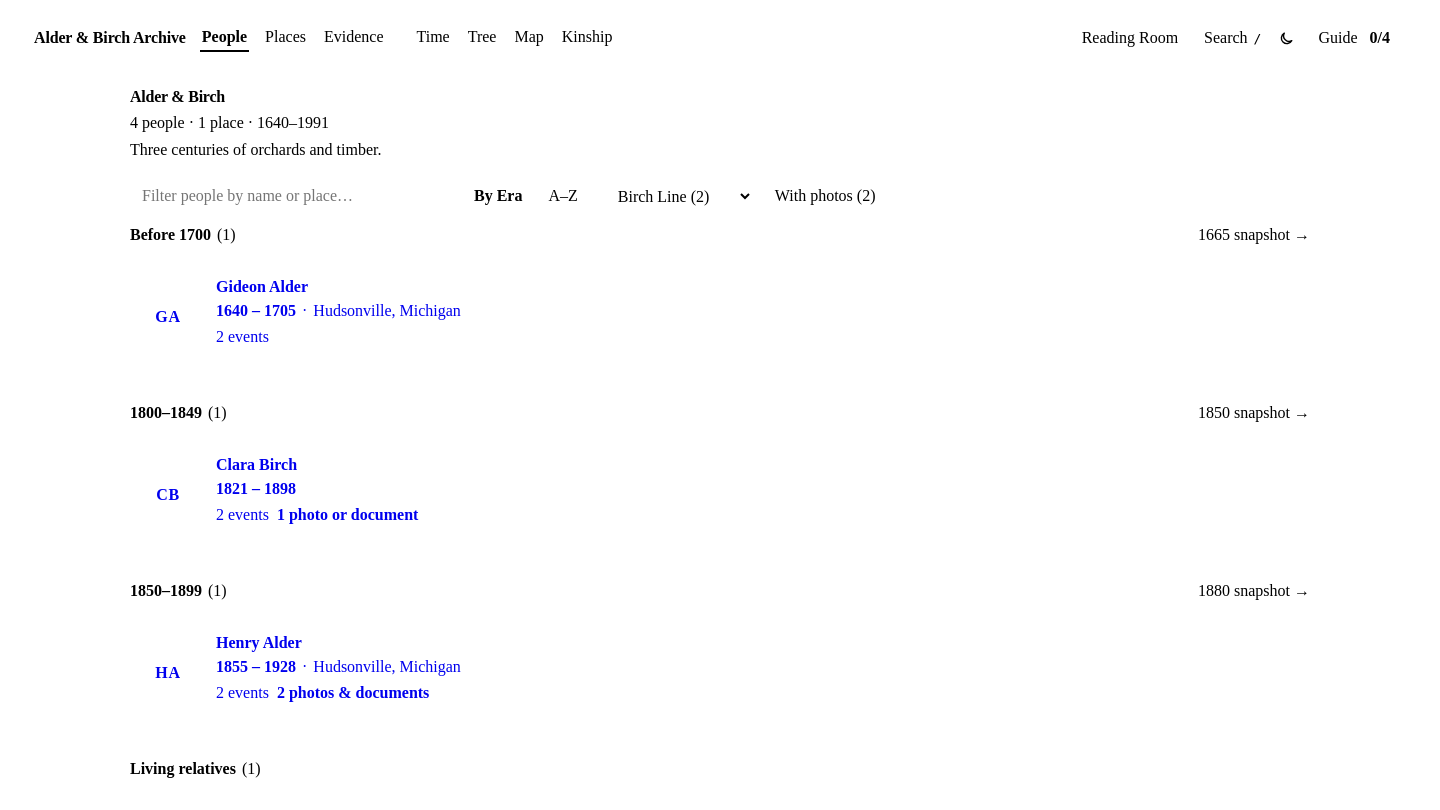
Scenario: IndexPage People Directory (#65) › renders By Era monotonic sections with era-header /time?year= links, subtitles, A–Z switch, URL sync, and demoted GEDCOM export
The image size is (1440, 810).
Expected: the element with class "index-filter-bar" is shown, [130,180,1310,212]
Expected: the element with class "index-filter-bar" does not show "Export GEDCOM"
Select "Birch Line (2)" in the dropdown named "Filter by family branch" at [677, 196], box [602,181,753,212]
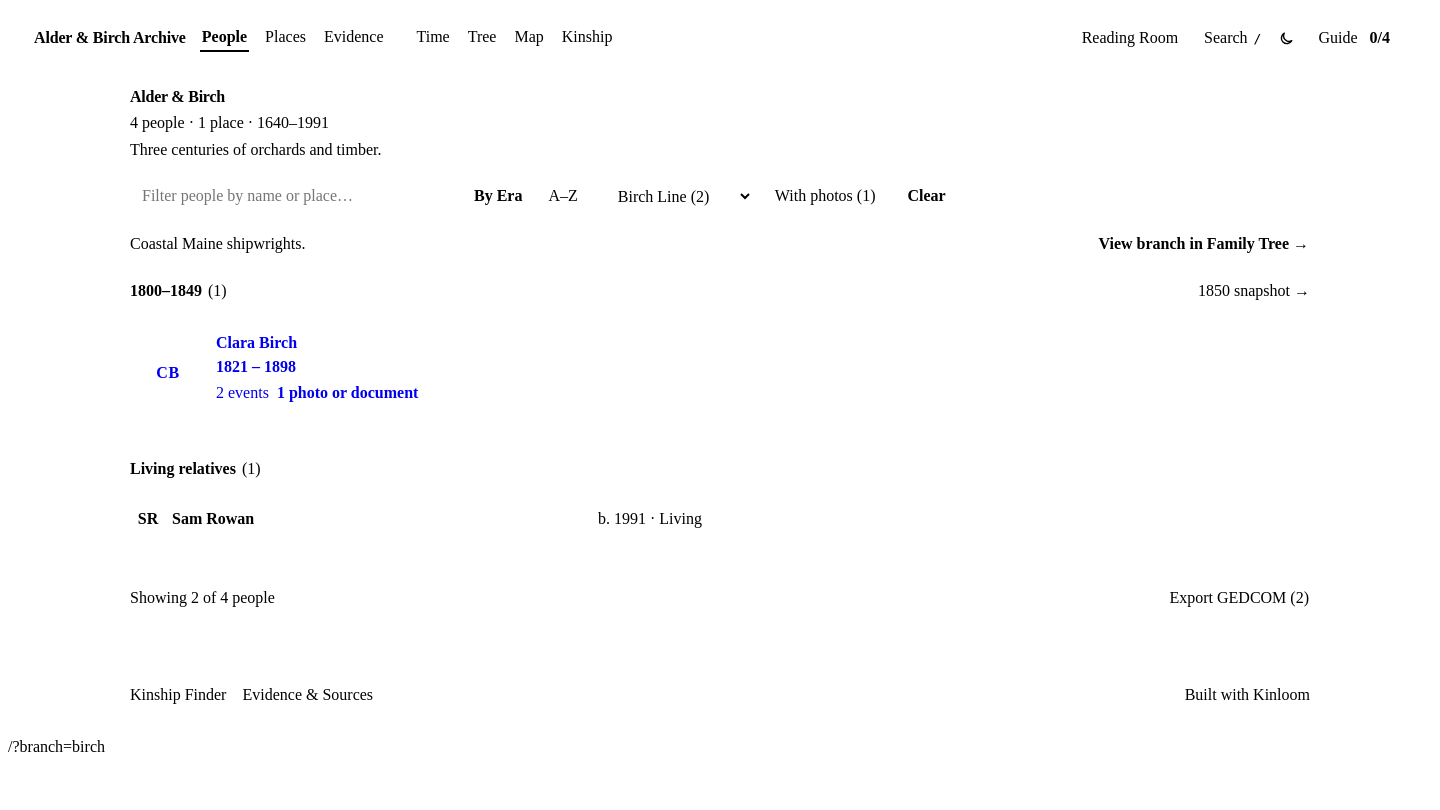
Expected: the text with test id "location-echo" reads "/?branch=birch", [8,738,105,755]
Expected: the text "Coastal Maine shipwrights." is shown, [130,235,306,253]
Expected: the link to "/tree?branch=birch" shows "View branch in Family Tree", [1098,232,1310,256]
Click the button "A–Z" at [563, 196], box [536,182,590,210]
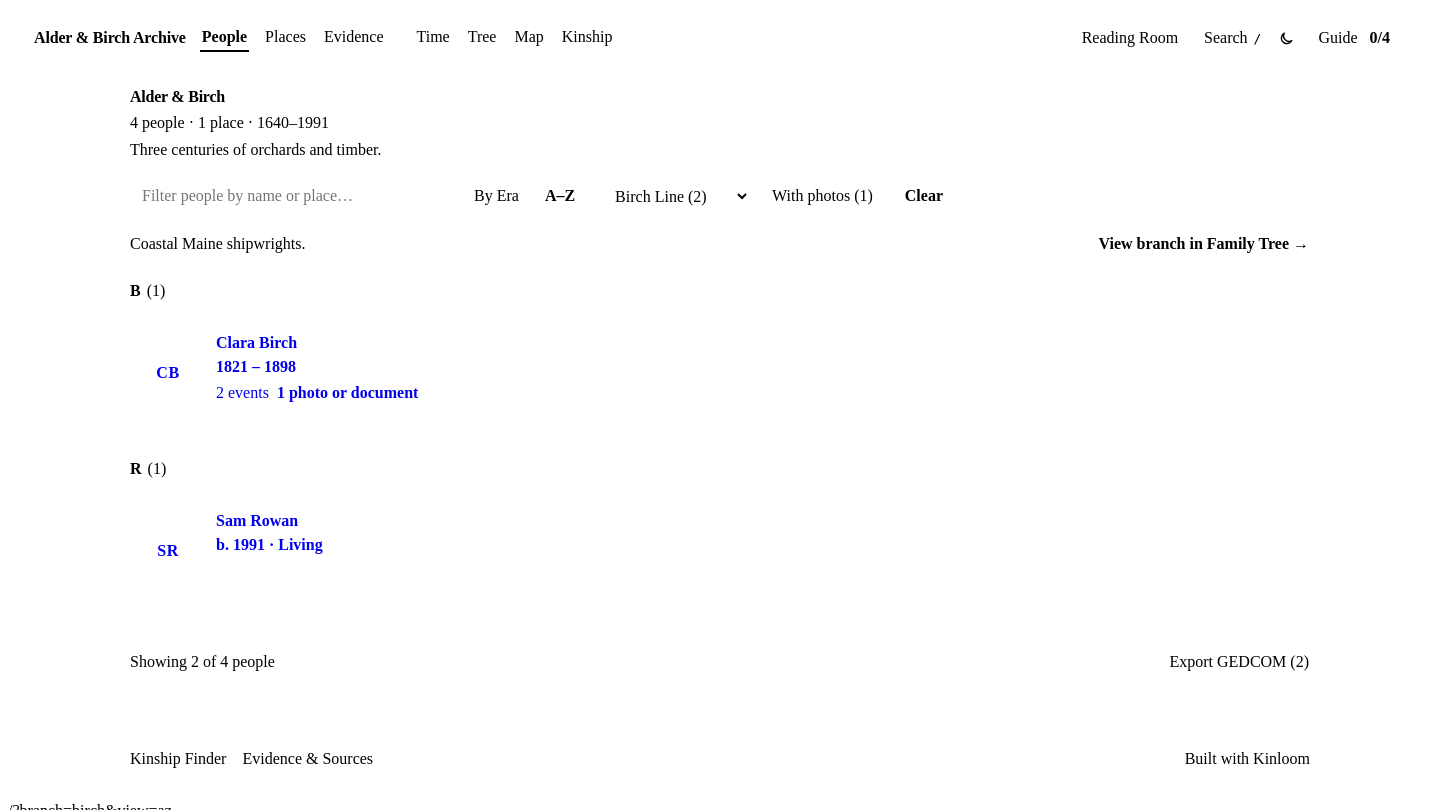
Expected: the element named "R" shows "Sam Rowan", [130,494,502,608]
Expected: the element named "R" shows "b. 1991 · Living", [130,494,502,608]
Click the button "With photos (1)" at [822, 196], box [760,181,885,211]
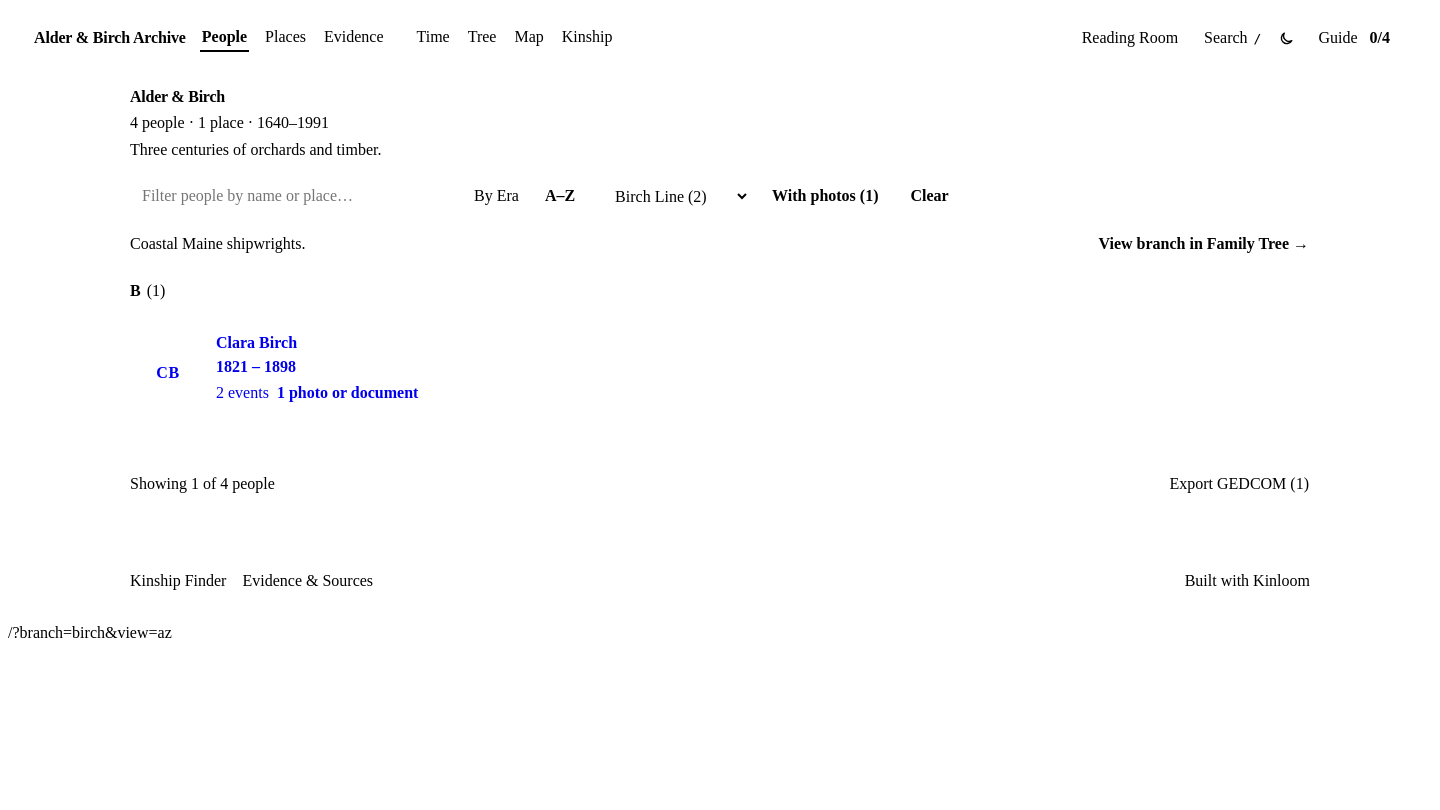
Expected: the text "Clara Birch" is shown, [216,334,297,351]
Expected: the text "Sam Rowan" is gone
Click the button "Clear" at [930, 196], box [900,181,959,211]
(page scrolled)
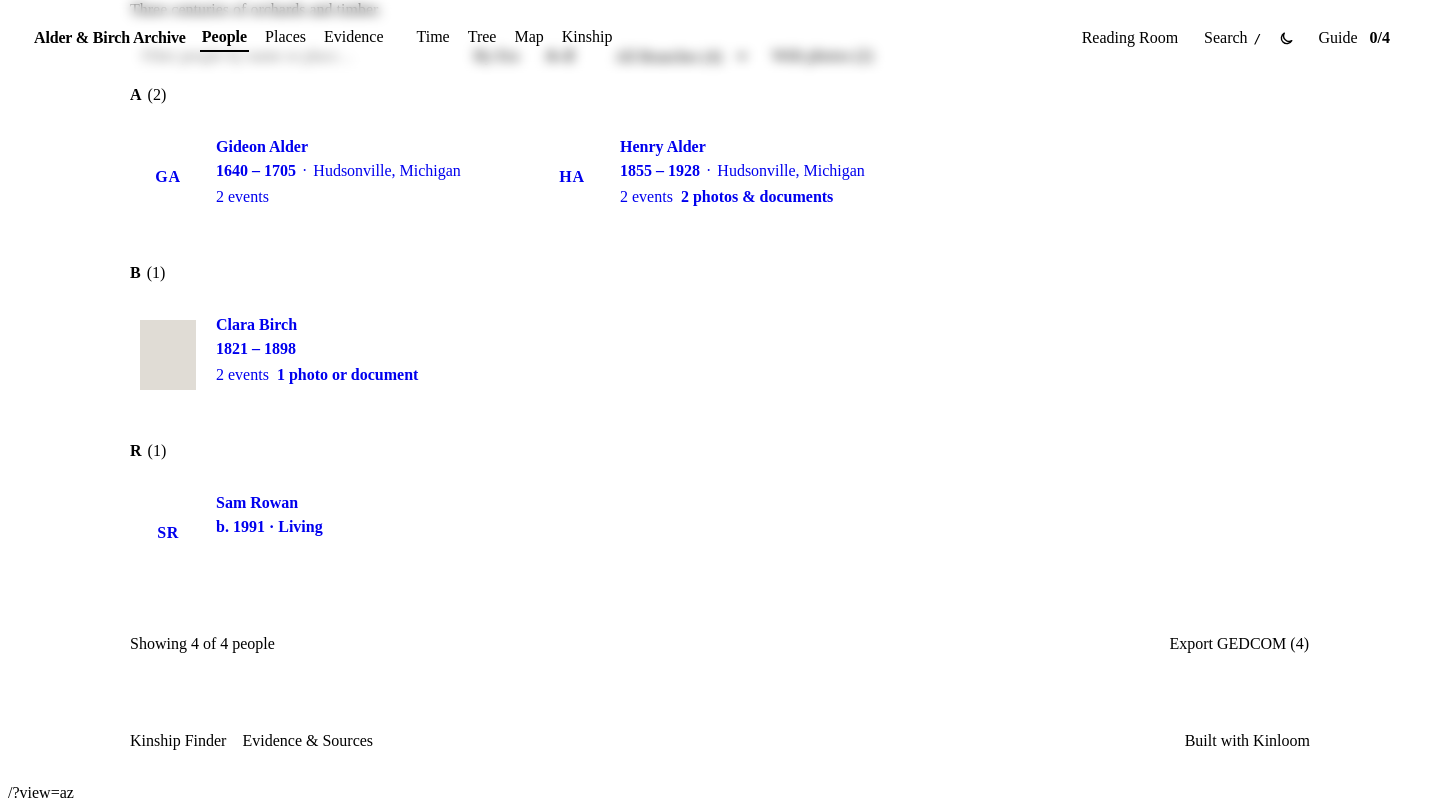
Expected: the text with test id "location-echo" reads "/?view=az", [8,784,74,801]
Expected: the text "Henry Alder" is shown, [620,138,706,155]
